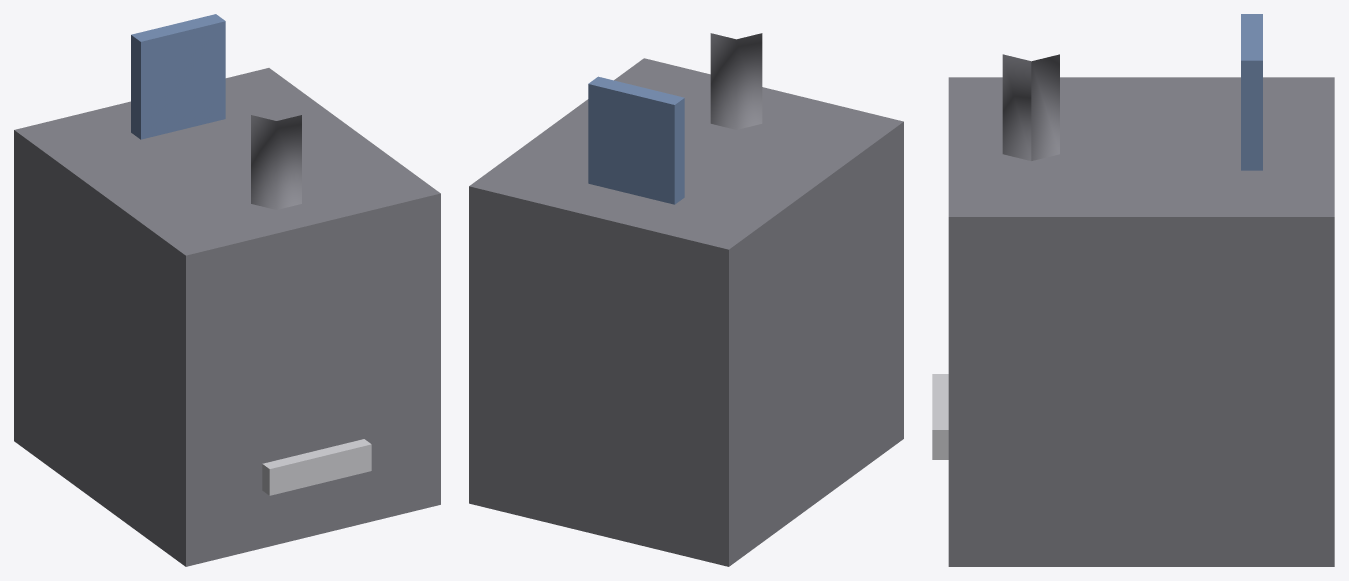
Rendered from coffee_machine.glb.
The picture shows the model from 3 angles, left to right: view 1: azimuth 30°, elevation 25°; view 2: azimuth 150°, elevation 25°; view 3: azimuth 270°, elevation 25°; orthographic projection. The views are drawn at different scales.
Parts seen in each view (by area): view 1: body, screen, spout, drip_tray; view 2: body, screen, spout; view 3: body, spout, screen, drip_tray.
Boxes of the visible parts, x1,y1,x2,y2 form: body: [14, 68, 440, 566]; screen: [131, 14, 225, 139]; spout: [251, 115, 301, 209]; drip_tray: [262, 439, 371, 495]; body: [469, 58, 903, 566]; screen: [588, 76, 684, 204]; spout: [710, 33, 762, 129]; body: [948, 77, 1334, 566]; spout: [1002, 54, 1059, 160]; screen: [1241, 14, 1262, 170]; drip_tray: [932, 374, 948, 459].
Size of the model in its own units: 0.3 by 0.46 by 0.365.
